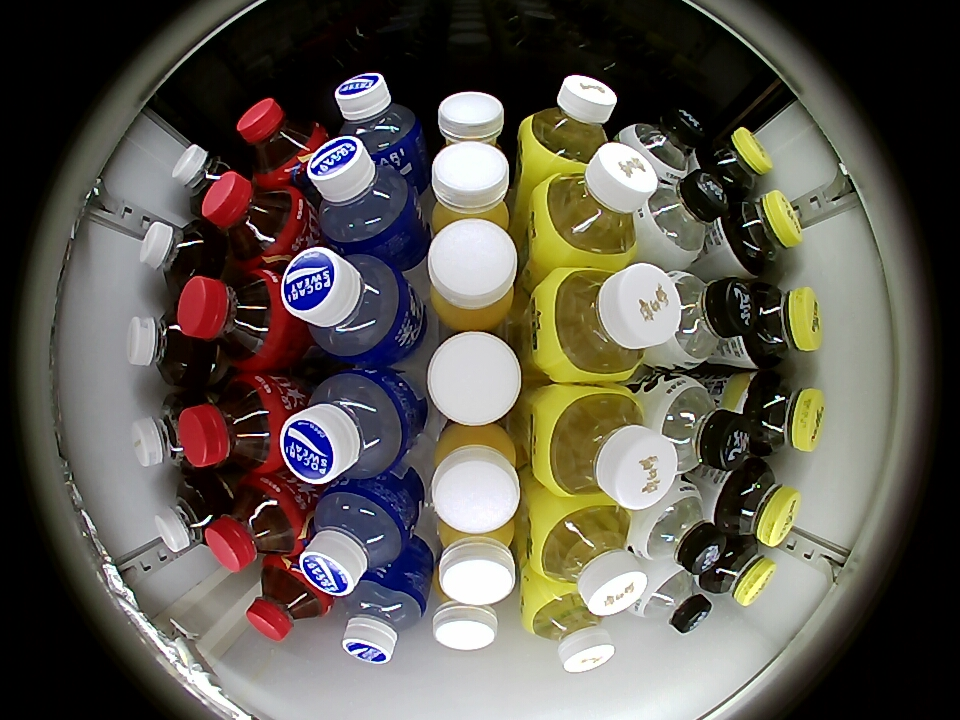baokuangli: (279, 368, 416, 484), (280, 247, 414, 365), (299, 481, 413, 597), (306, 136, 417, 252), (335, 73, 423, 164), (341, 573, 427, 664)
binghongcha: (177, 271, 291, 372), (179, 373, 286, 473), (202, 172, 304, 268), (206, 474, 303, 573), (237, 97, 325, 185), (245, 558, 333, 642)
bingtangxueli: (533, 264, 681, 385), (533, 386, 677, 509), (532, 142, 658, 265), (531, 501, 647, 615), (520, 74, 617, 171), (523, 587, 614, 673)
chacui: (715, 462, 802, 546), (741, 371, 825, 456), (722, 191, 804, 275), (743, 282, 823, 368), (700, 127, 774, 200), (701, 537, 776, 606)
nfc: (426, 219, 520, 330), (430, 425, 522, 534), (426, 331, 523, 427), (428, 142, 514, 236), (435, 514, 519, 606), (431, 588, 502, 650), (435, 92, 507, 152)
wulongcha: (126, 310, 198, 385), (140, 220, 212, 292), (132, 396, 197, 470), (155, 479, 220, 553), (172, 144, 236, 210)
yuanqishui: (655, 272, 756, 370), (648, 376, 750, 473), (629, 480, 725, 572), (637, 171, 729, 266), (619, 105, 705, 184), (630, 561, 711, 634)
